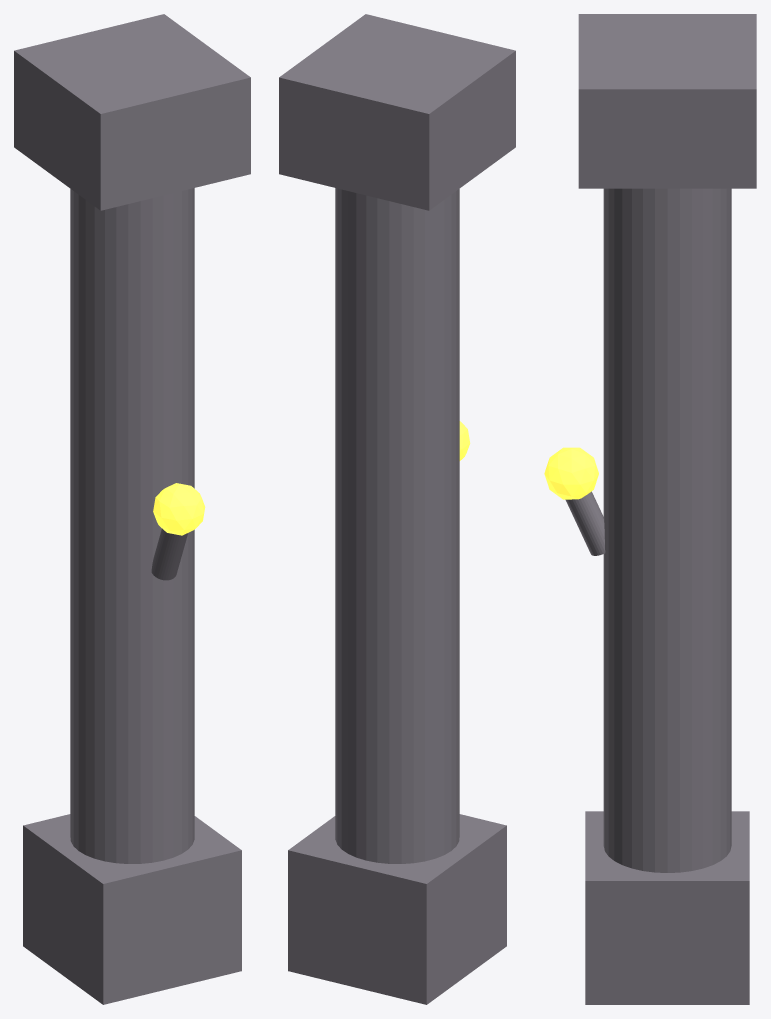
File: spire_corridor_pillar.gltf
The picture shows the model from 3 angles, left to right: view 1: azimuth 30°, elevation 25°; view 2: azimuth 150°, elevation 25°; view 3: azimuth 270°, elevation 25°; orthographic projection. The views are drawn at different scales.
Parts seen in each view (by area): view 1: Cylinder, Cube.001, Cube, Icosphere, Cylinder.001; view 2: Cylinder, Cube.001, Cube; view 3: Cylinder, Cube.001, Cube, Icosphere, Cylinder.001.
Part boxes in pixels (x1=…): Cylinder: x1=70, y1=188, x2=194, y2=863; Cube.001: x1=14, y1=14, x2=250, y2=210; Cube: x1=23, y1=814, x2=241, y2=1004; Icosphere: x1=153, y1=483, x2=205, y2=535; Cylinder.001: x1=151, y1=528, x2=187, y2=580; Cylinder: x1=335, y1=188, x2=459, y2=863; Cube.001: x1=279, y1=14, x2=515, y2=210; Cube: x1=288, y1=814, x2=506, y2=1004; Cylinder: x1=603, y1=188, x2=731, y2=872; Cube.001: x1=578, y1=14, x2=756, y2=188; Cube: x1=585, y1=811, x2=749, y2=1004; Icosphere: x1=544, y1=447, x2=598, y2=499; Cylinder.001: x1=565, y1=491, x2=605, y2=555.
Bounding box in the file's own units: 0.78 × 4.44 × 0.93.
